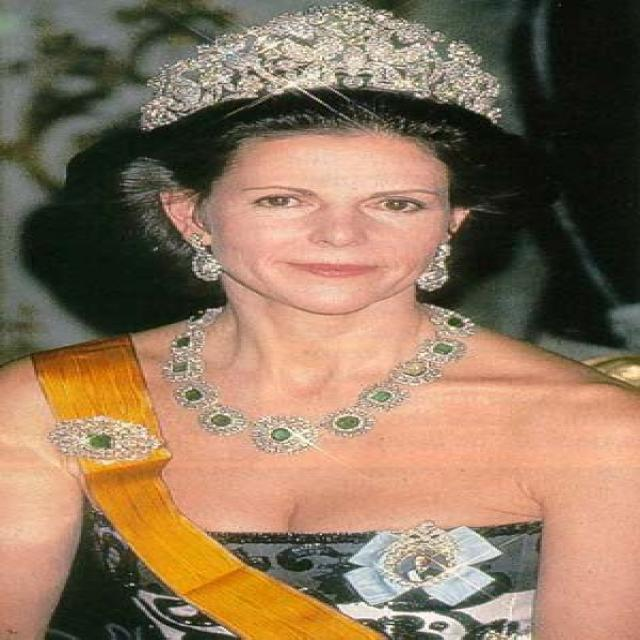Earring: (411, 223, 462, 302), (178, 220, 232, 294)
